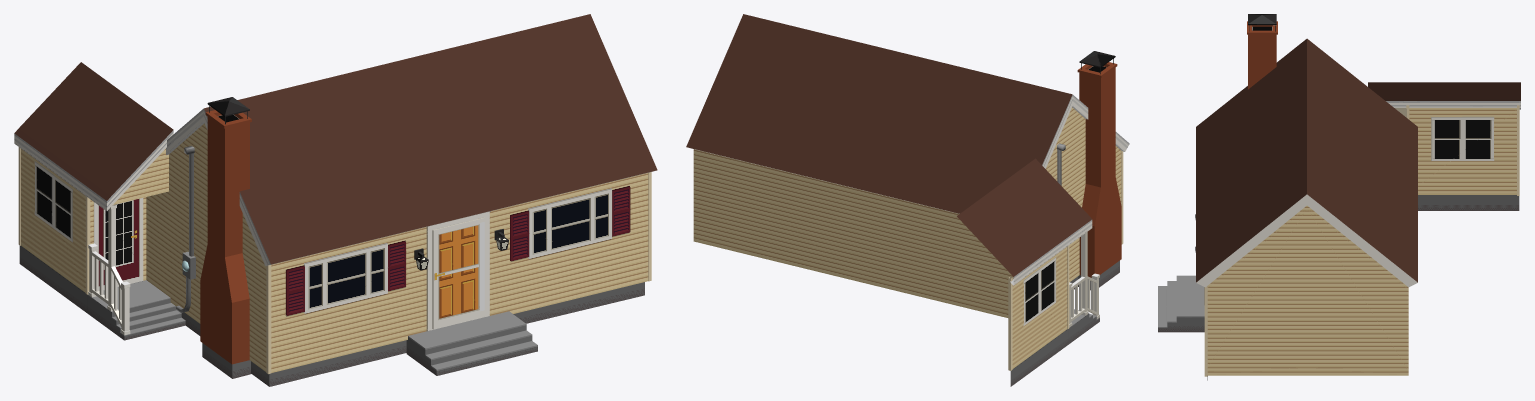
Rendered from SM_House 1.fbx.
3 renders of one model, left to right at view 1: azimuth 30°, elevation 25°; view 2: azimuth 150°, elevation 25°; view 3: azimuth 270°, elevation 25°, orthographic. The views are drawn at different scales.
Visible parts, largest first — view 1: House, Front Door, Screen Door; view 2: House; view 3: House.
Part boxes in pixels (x1,y1,x2,y2): House: [14, 14, 657, 386]; Front Door: [439, 225, 478, 318]; Screen Door: [432, 217, 485, 329]; House: [686, 14, 1129, 386]; House: [1158, 14, 1520, 380].
Bounding box in the file's own units: 4556 × 2575 × 3881.
4 materials, 4 textured.
